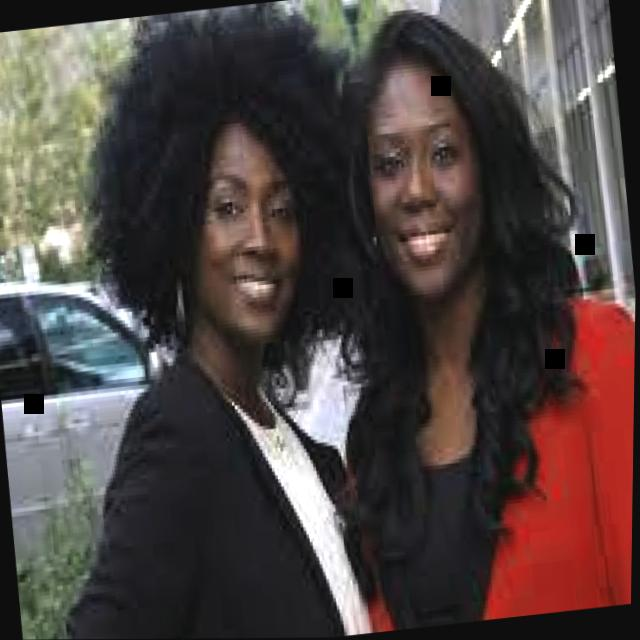NO-Mask: (361, 78, 490, 312), (184, 148, 313, 355)
